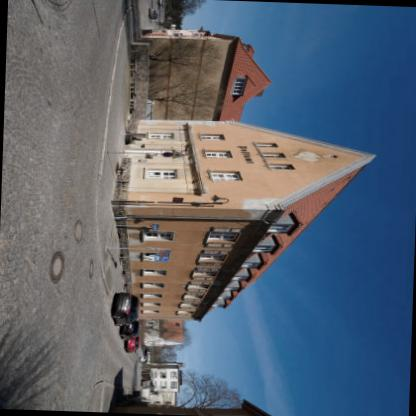manholes: (54, 213, 97, 248), (34, 250, 73, 288), (74, 256, 103, 283)
